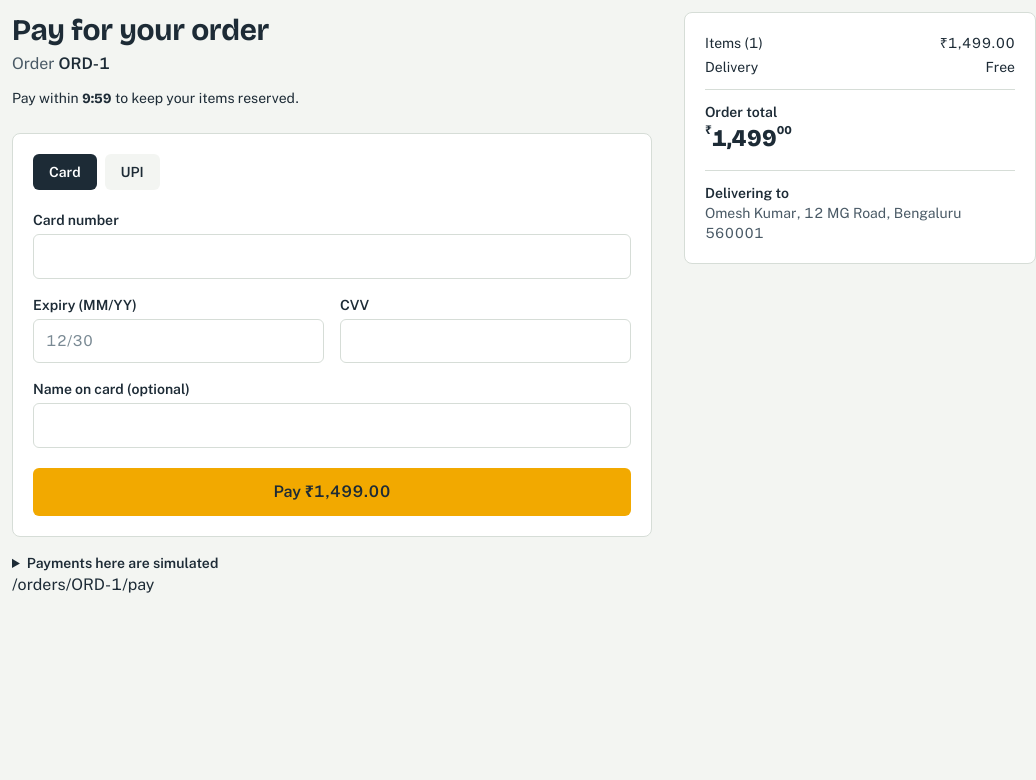
Scenario: pay page › won’t send a mistyped card
The width and height of the screenshot is (1036, 780).
Type "4242424242424241" into the field labelled "Card number".
click(332, 256); type("4242424242424241")  # box top-left (33, 234), bottom-right (631, 278)
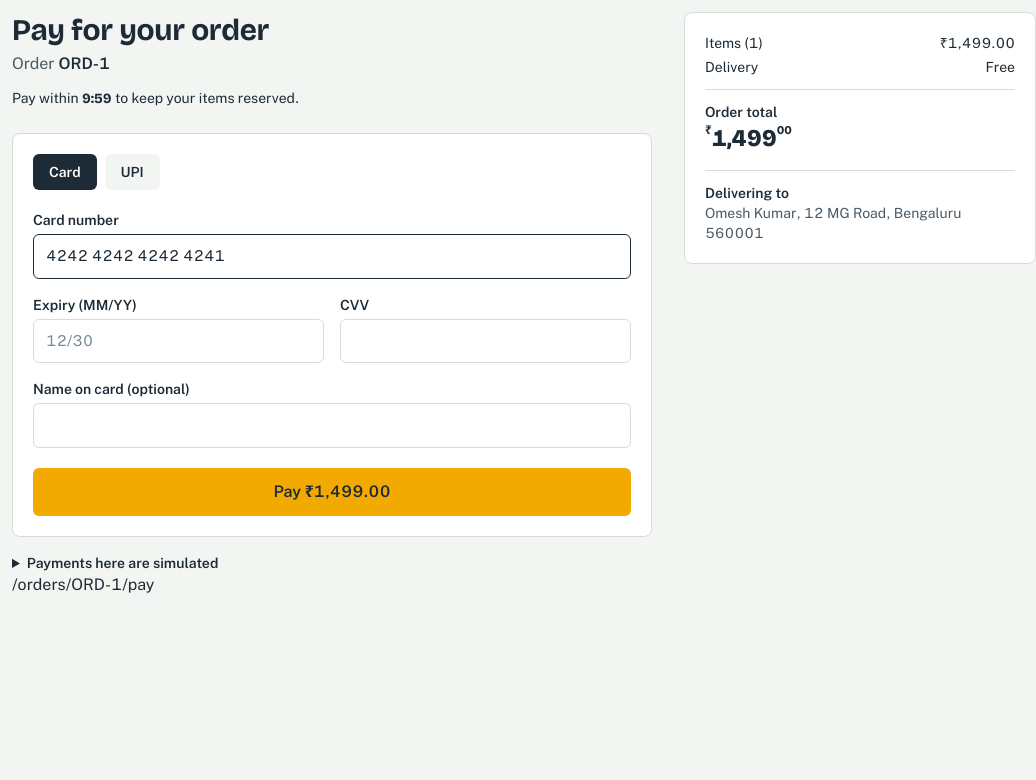
Click the button "Pay ₹1,499.00".
click(332, 492)  # box top-left (33, 468), bottom-right (631, 516)
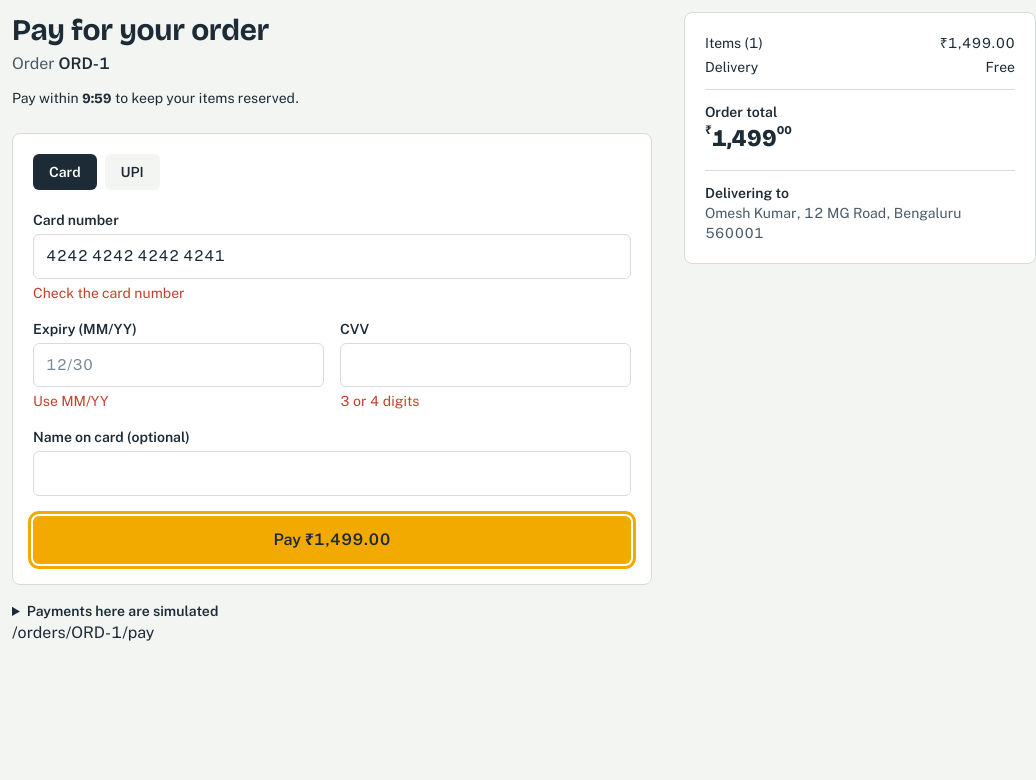
Expected: the text "Check the card number" is shown, top-left (33, 284), bottom-right (184, 300)
